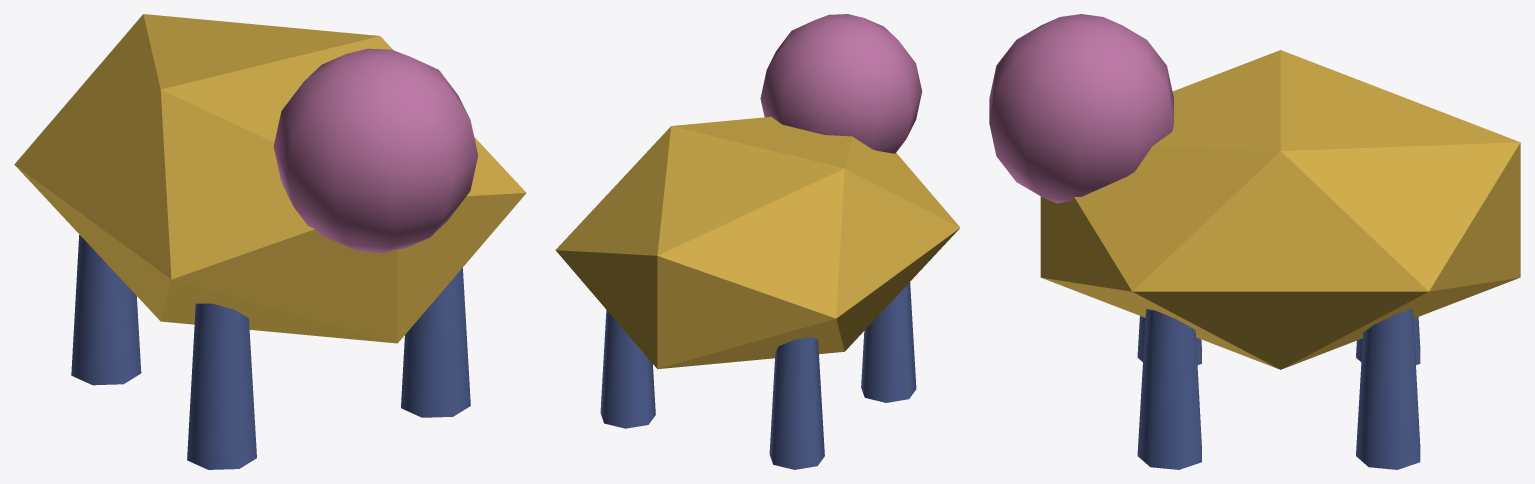
File: comet_fox.glb
The picture shows the model from 3 angles, left to right: view 1: azimuth 30°, elevation 25°; view 2: azimuth 150°, elevation 25°; view 3: azimuth 270°, elevation 25°; orthographic projection. The views are drawn at different scales.
Visible parts, largest first — view 1: body_core, head_core, leg_-1_1, leg_-1_-1, leg_1_1; view 2: body_core, head_core, leg_-1_-1, leg_-1_1, leg_1_-1; view 3: body_core, head_core, leg_1_1, leg_1_-1.
Boxes of the visible parts, x1=… form: body_core: x1=14, y1=14, x2=526, y2=343; head_core: x1=273, y1=48, x2=478, y2=253; leg_-1_1: x1=187, y1=303, x2=256, y2=469; leg_-1_-1: x1=71, y1=234, x2=141, y2=385; leg_1_1: x1=401, y1=268, x2=470, y2=417; body_core: x1=555, y1=116, x2=960, y2=369; head_core: x1=760, y1=14, x2=922, y2=153; leg_-1_-1: x1=769, y1=337, x2=824, y2=469; leg_-1_1: x1=861, y1=282, x2=916, y2=402; leg_1_-1: x1=600, y1=310, x2=655, y2=428; body_core: x1=1040, y1=50, x2=1520, y2=369; head_core: x1=989, y1=14, x2=1173, y2=203; leg_1_1: x1=1137, y1=309, x2=1201, y2=469; leg_1_-1: x1=1356, y1=309, x2=1420, y2=469.
Size of what is drawn, in the model's own units: 1.59 by 1.75 by 2.19.
